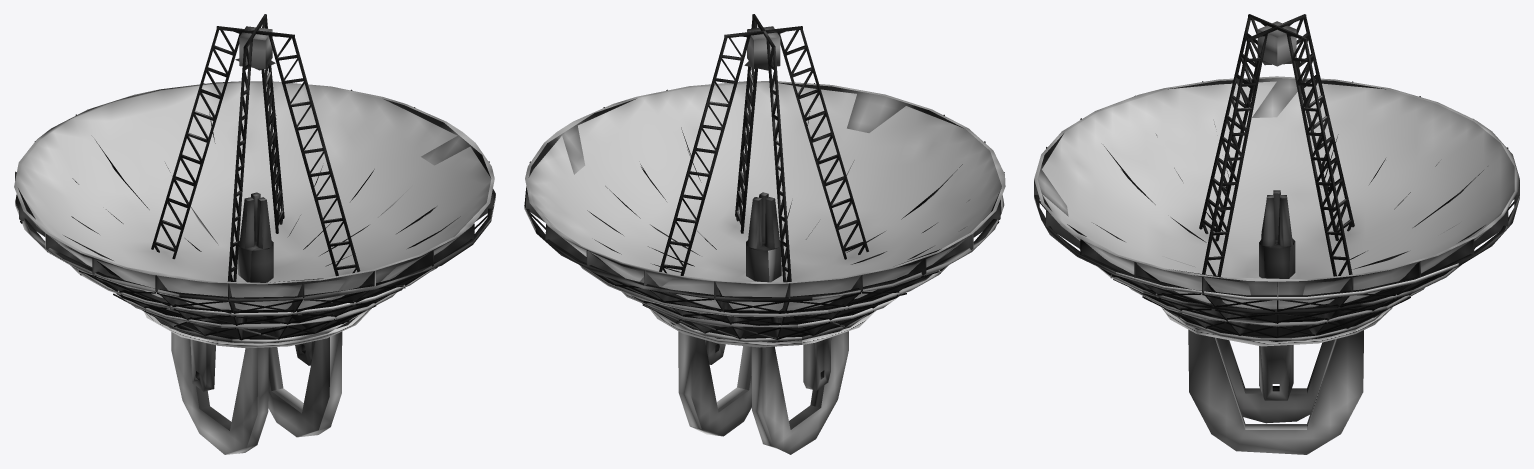
File: space-70-meter-dish.glb
The picture shows the model from 3 angles, left to right: view 1: azimuth 30°, elevation 25°; view 2: azimuth 150°, elevation 25°; view 3: azimuth 270°, elevation 25°; orthographic projection.
Parts seen in each view (by area): view 1: 70m_rev_e.; view 2: 70m_rev_e.; view 3: 70m_rev_e..
Boxes of the visible parts, x1,y1,x2,y2 form: 70m_rev_e.: (14, 14, 495, 454); 70m_rev_e.: (524, 14, 1005, 454); 70m_rev_e.: (1034, 14, 1519, 454).
Size of the model in its own units: 91.31 by 85.42 by 91.32.
1 material, 1 textured.
